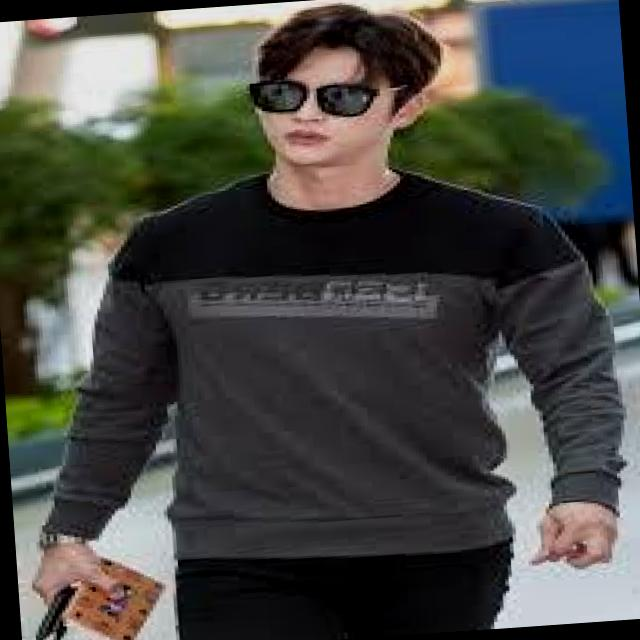sweater: (20, 134, 629, 599)
